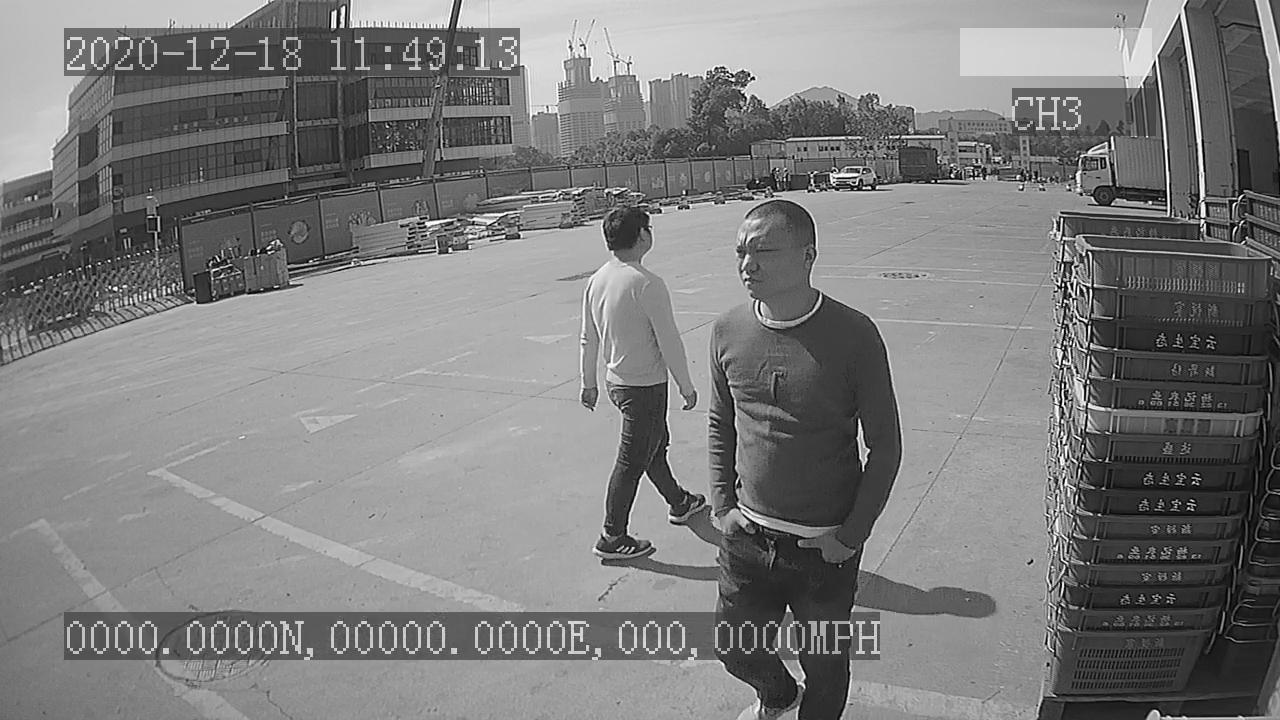person: (574, 202, 704, 561)
